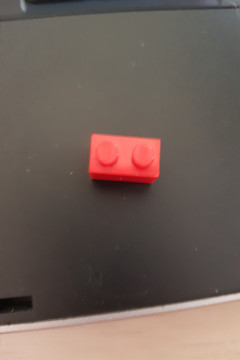1x2 red: (86, 132, 162, 189)
